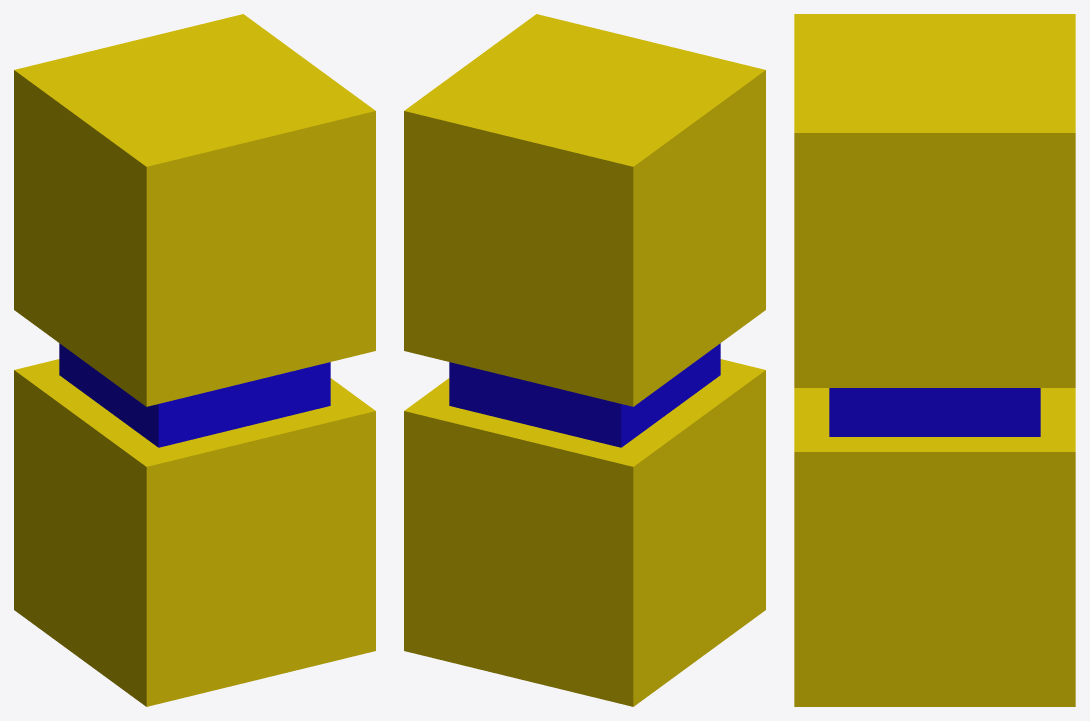
The model's file is Sponge_ver2.fbx.
3 views of the same model, side by side, from view 1: azimuth 30°, elevation 25°; view 2: azimuth 150°, elevation 25°; view 3: azimuth 270°, elevation 25° (orthographic). The views are drawn at different scales.
Parts seen in each view (by area): view 1: Cube.002; view 2: Cube.002; view 3: Cube.002.
Boxes of the visible parts, x1,y1,x2,y2 form: Cube.002: [14, 14, 375, 706]; Cube.002: [404, 14, 765, 706]; Cube.002: [794, 14, 1075, 706].
Size of the model in its own units: 200 by 450 by 200.
